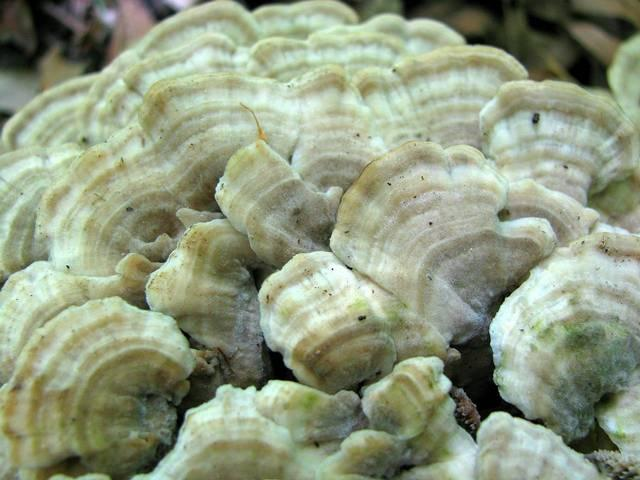poisonous_mushroom: (1, 1, 636, 477)
